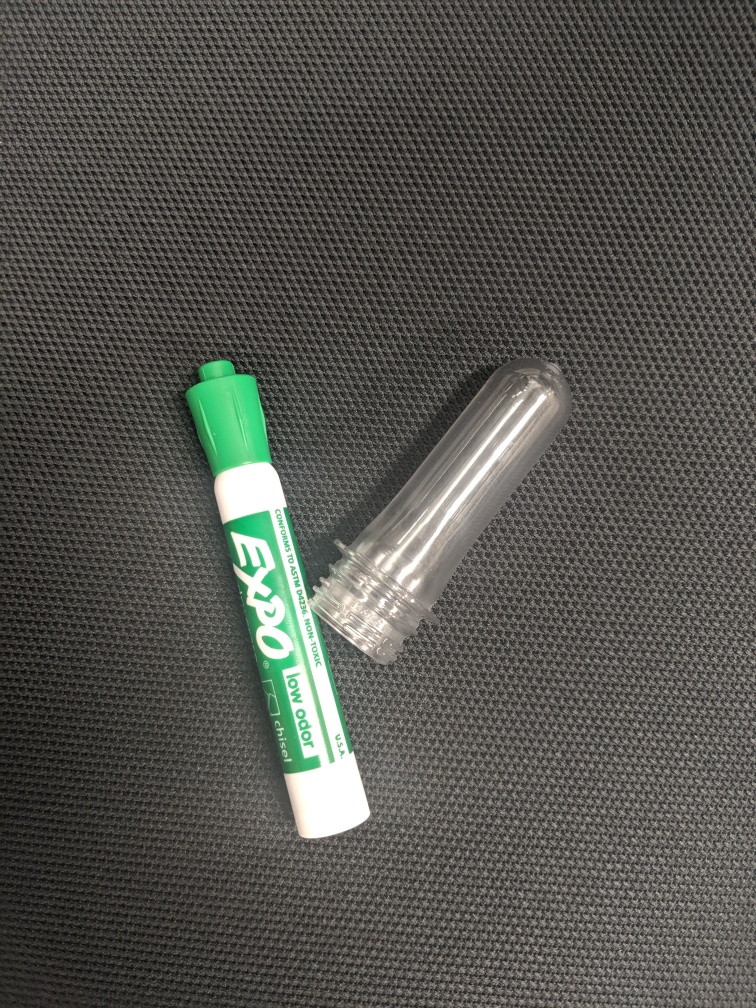preform: (301, 352, 579, 671)
